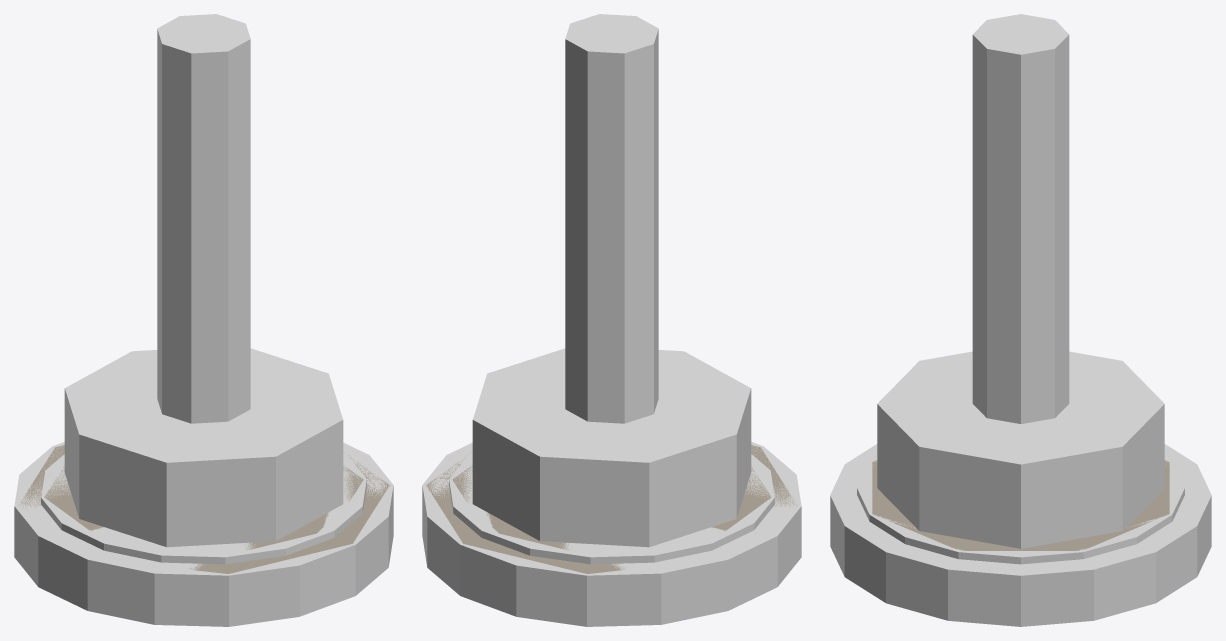
The model's file is obeliskbrunnen.glb.
The picture shows the model from 3 angles, left to right: view 1: azimuth 30°, elevation 25°; view 2: azimuth 150°, elevation 25°; view 3: azimuth 270°, elevation 25°; orthographic projection.
Visible parts, largest first — view 1: COL_HULL_2, COL_HULL_3, COL_HULL_0, COL_HULL_1, obeliskbrunnen; view 2: COL_HULL_2, COL_HULL_3, COL_HULL_0, COL_HULL_1, obeliskbrunnen; view 3: COL_HULL_2, COL_HULL_3, COL_HULL_0, COL_HULL_1, obeliskbrunnen.
Part boxes in pixels (box(x1,y1,x2,y2)): COL_HULL_2: box(64, 348, 343, 547); COL_HULL_3: box(157, 14, 250, 423); COL_HULL_0: box(14, 442, 393, 626); COL_HULL_1: box(41, 452, 366, 564); obeliskbrunnen: box(18, 445, 389, 573); COL_HULL_2: box(472, 348, 751, 547); COL_HULL_3: box(565, 14, 658, 423); COL_HULL_0: box(422, 442, 801, 626); COL_HULL_1: box(449, 452, 774, 564); obeliskbrunnen: box(426, 445, 797, 573); COL_HULL_2: box(877, 351, 1164, 548); COL_HULL_3: box(972, 14, 1069, 423); COL_HULL_0: box(830, 444, 1211, 626); COL_HULL_1: box(857, 457, 1184, 564); obeliskbrunnen: box(872, 460, 1169, 550).
Bounding box in the file's own units: 7.84 × 11.6 × 7.84.
